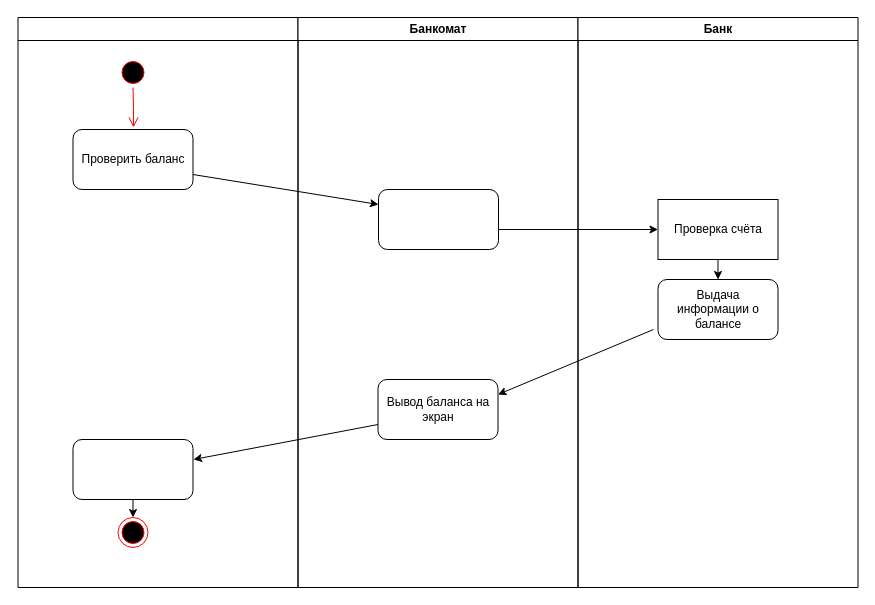
The diagram is 875 pixels wide and 605 high, and some of its shapes have lost their labels. The shapes that lost their labels are listed below. From the top down, each one's box as (x1, y1, x2, y2) in pixels, then its label:
(378, 188, 498, 250): Запросить информацию о счёте
(17, 16, 298, 588): Клиент
(72, 438, 193, 500): Получает данные
